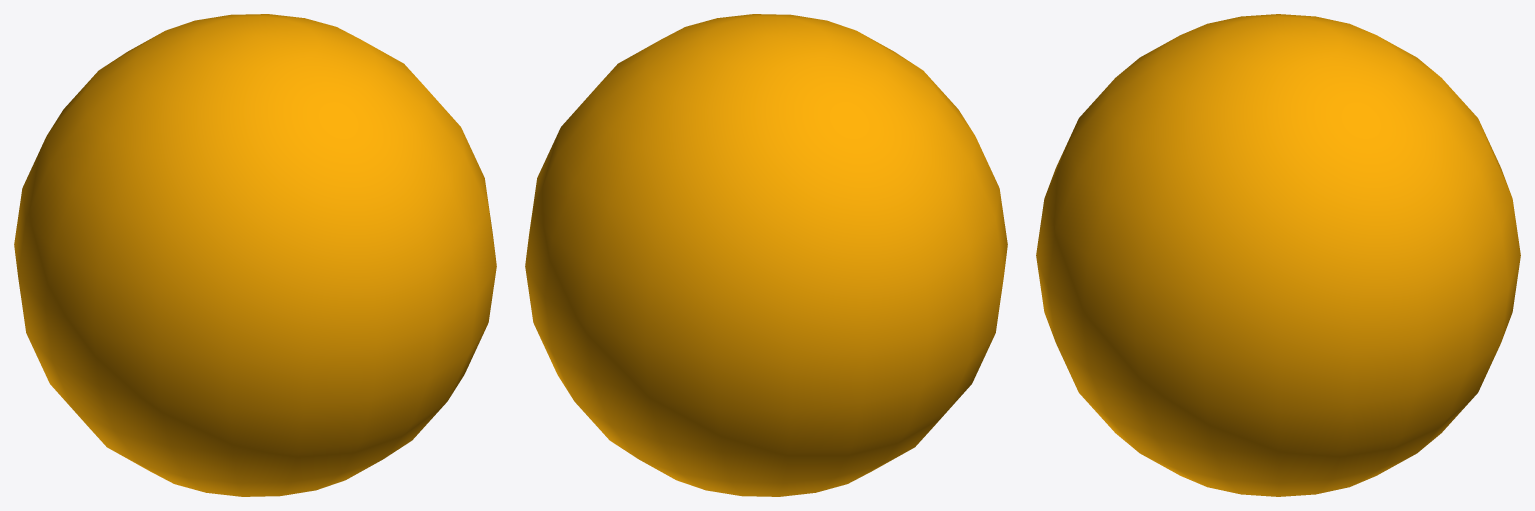
Rendered from fruita.glb.
3 renders of one model, left to right at view 1: azimuth 30°, elevation 25°; view 2: azimuth 150°, elevation 25°; view 3: azimuth 270°, elevation 25°, orthographic.
Visible parts, largest first — view 1: Fruita; view 2: Fruita; view 3: Fruita.
Boxes of the visible parts, left/top/right/bottom form: Fruita: left=14, top=14, right=496, bottom=496; Fruita: left=525, top=14, right=1007, bottom=496; Fruita: left=1036, top=14, right=1520, bottom=496.
Size of the model in its own units: 0.921 by 0.921 by 0.921.
